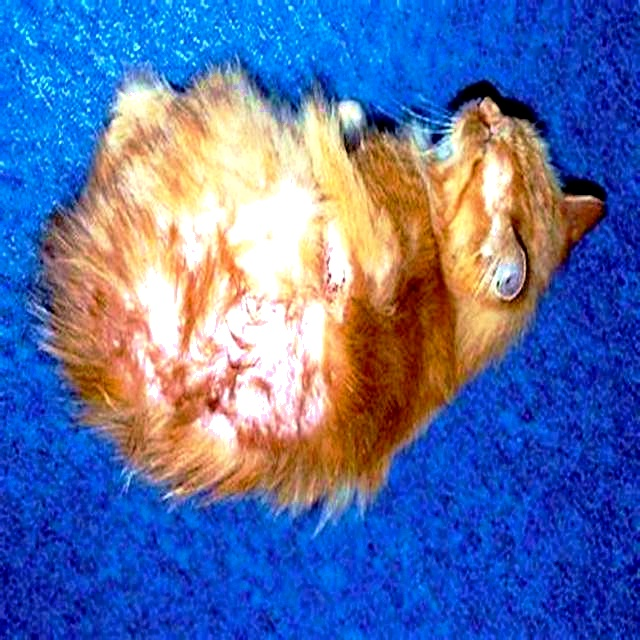hairloss: (149, 202, 316, 438)
